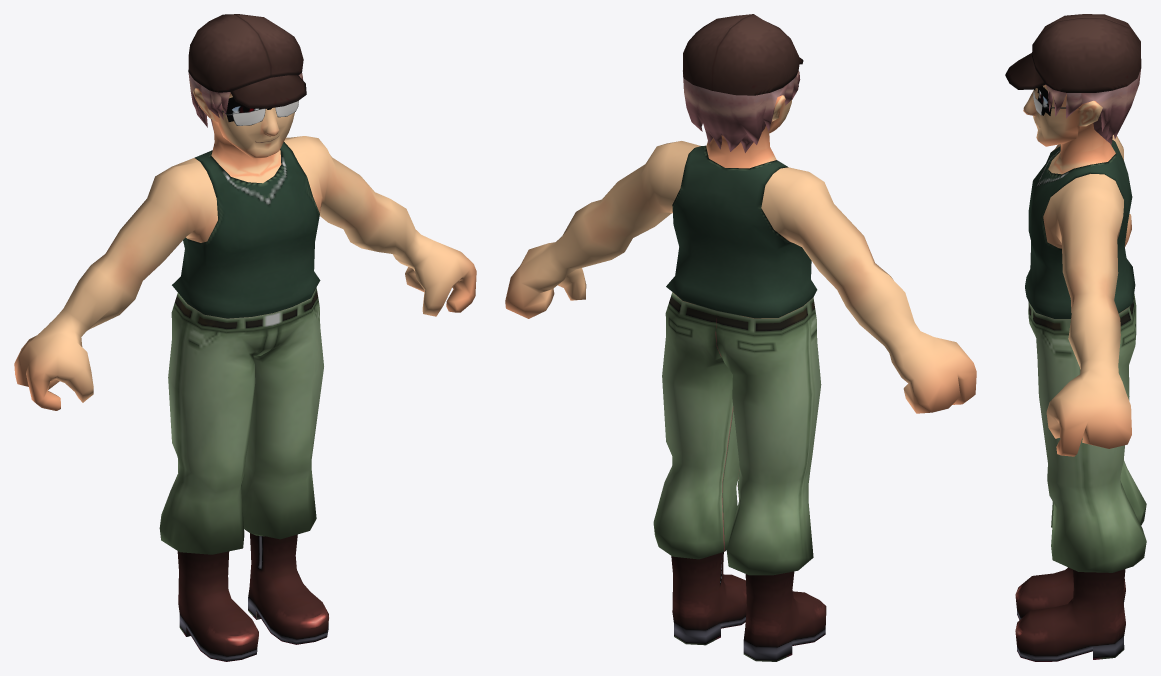
The picture shows the model from 3 angles, left to right: view 1: azimuth 30°, elevation 25°; view 2: azimuth 150°, elevation 25°; view 3: azimuth 270°, elevation 25°; orthographic projection. The views are drawn at different scales.
Visible parts, largest first — view 1: _{_f_B, _C, obj2; view 2: _{_f_B, _C; view 3: _{_f_B, _C, eye.
Part boxes in pixels (x1,y1,x2,y2): _{_f_B: [14, 14, 476, 554]; _C: [177, 533, 328, 661]; obj2: [222, 100, 298, 125]; _{_f_B: [505, 14, 976, 575]; _C: [671, 552, 826, 661]; _{_f_B: [1005, 14, 1146, 572]; _C: [1015, 567, 1125, 661]; eye: [1034, 86, 1051, 115].
Size of the model in its own units: 136 by 177 by 36.94.
Materials: 9 (9 with a texture image).
